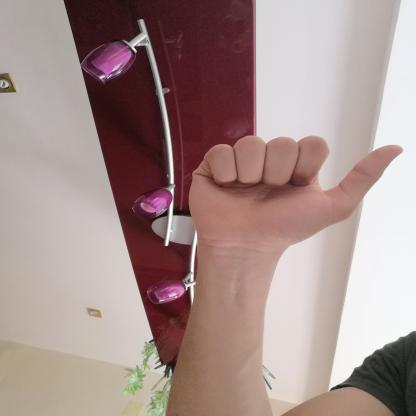DAD: (173, 126, 412, 262)
